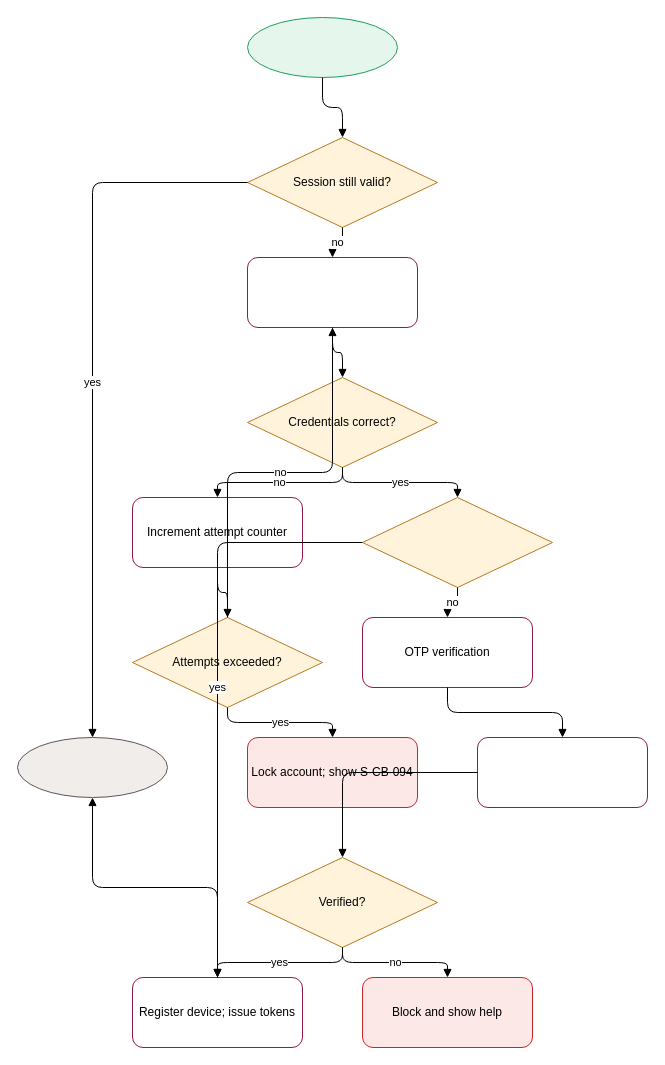
Some shapes in this 665 by 1065 pixel diagram are drawn without their labels. The centre of each missing label's shape, as x and y in pixels:
"Home" goes at point 92,767.
"Known trusted device?" goes at point 457,542.
"Open app" goes at point 322,47.
"Selfie liveness check" goes at point 562,772.
"Show login (passcode or biometric)" goes at point 332,292.
